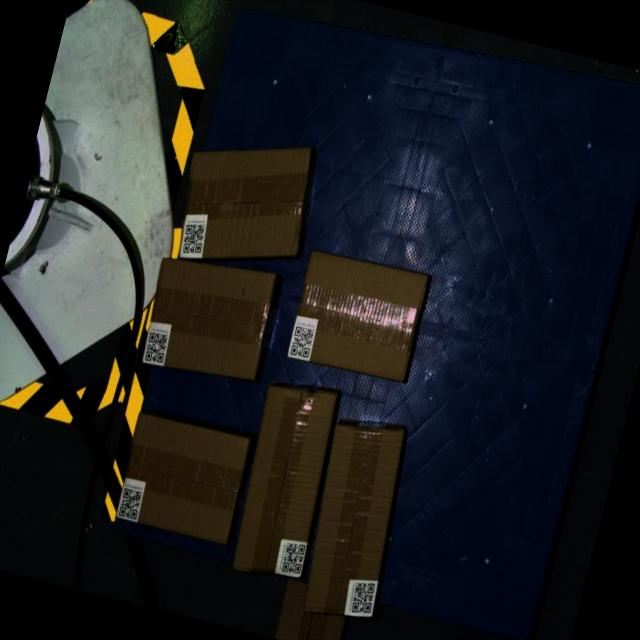box: (288, 413, 417, 627), (166, 121, 322, 287), (223, 378, 345, 585), (136, 246, 280, 390), (286, 246, 430, 386), (112, 410, 253, 546)
